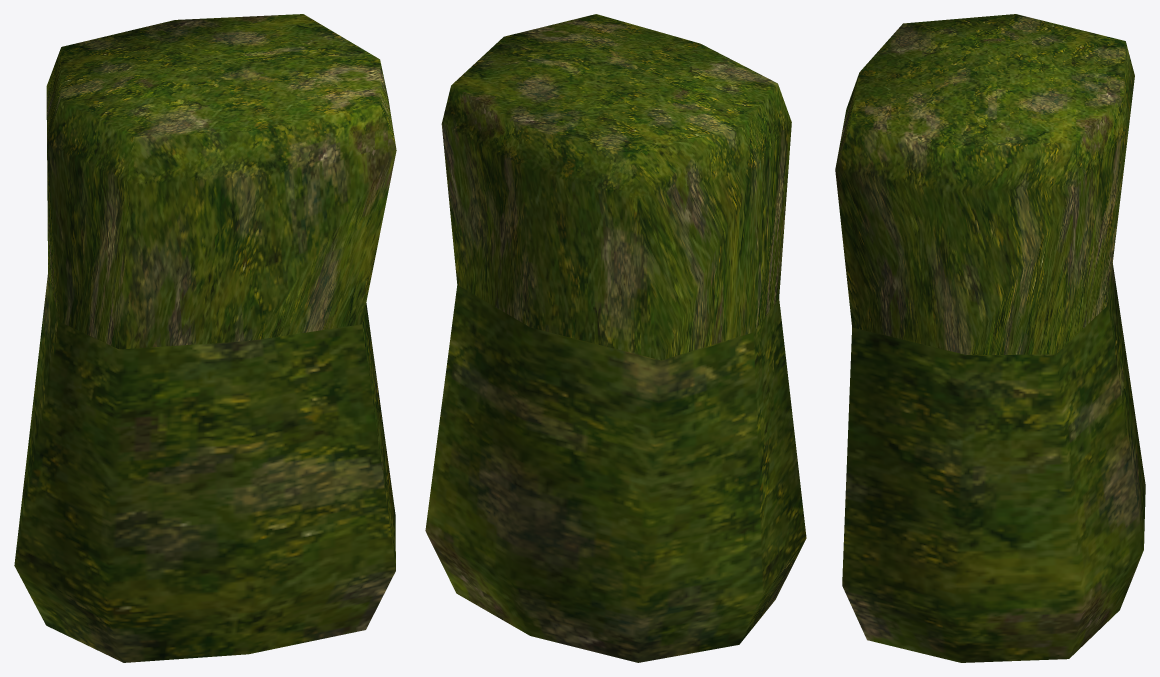
File: OVERHILL_A_01_LINE350.fbx
3 renders of one model, left to right at view 1: azimuth 30°, elevation 25°; view 2: azimuth 150°, elevation 25°; view 3: azimuth 270°, elevation 25°, orthographic. The views are drawn at different scales.
Visible parts, largest first — view 1: OVERHILL_A_01_LINE350; view 2: OVERHILL_A_01_LINE350; view 3: OVERHILL_A_01_LINE350.
Part boxes in pixels (left/top/right/bottom): OVERHILL_A_01_LINE350: left=14, top=14, right=396, bottom=662; OVERHILL_A_01_LINE350: left=425, top=14, right=806, bottom=662; OVERHILL_A_01_LINE350: left=835, top=14, right=1145, bottom=662.
Size of the model in its own units: 20083 by 30685 by 16336.
1 material, 1 textured.
